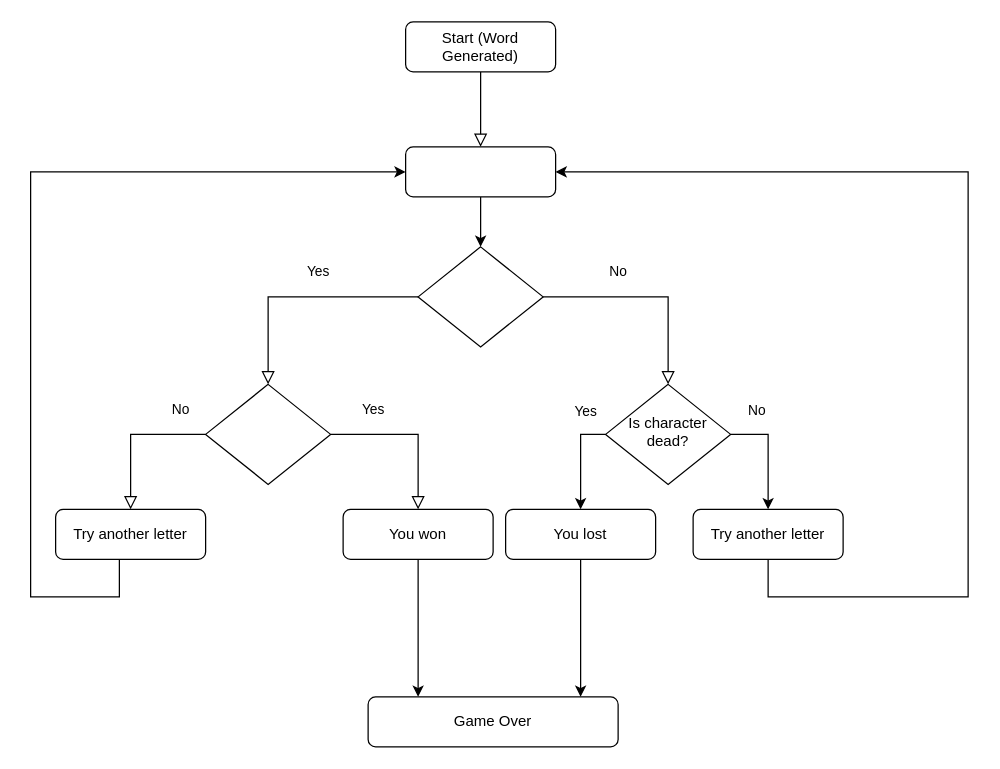
This 1000x769 diagram has some shape labels left out. The shapes that lost their labels are listed below. From the top down, each one's centre as x and y in pixels, then its label:
pixel 480 171: Guess Letter
pixel 480 296: Guess Correct
pixel 267 433: Is word found
